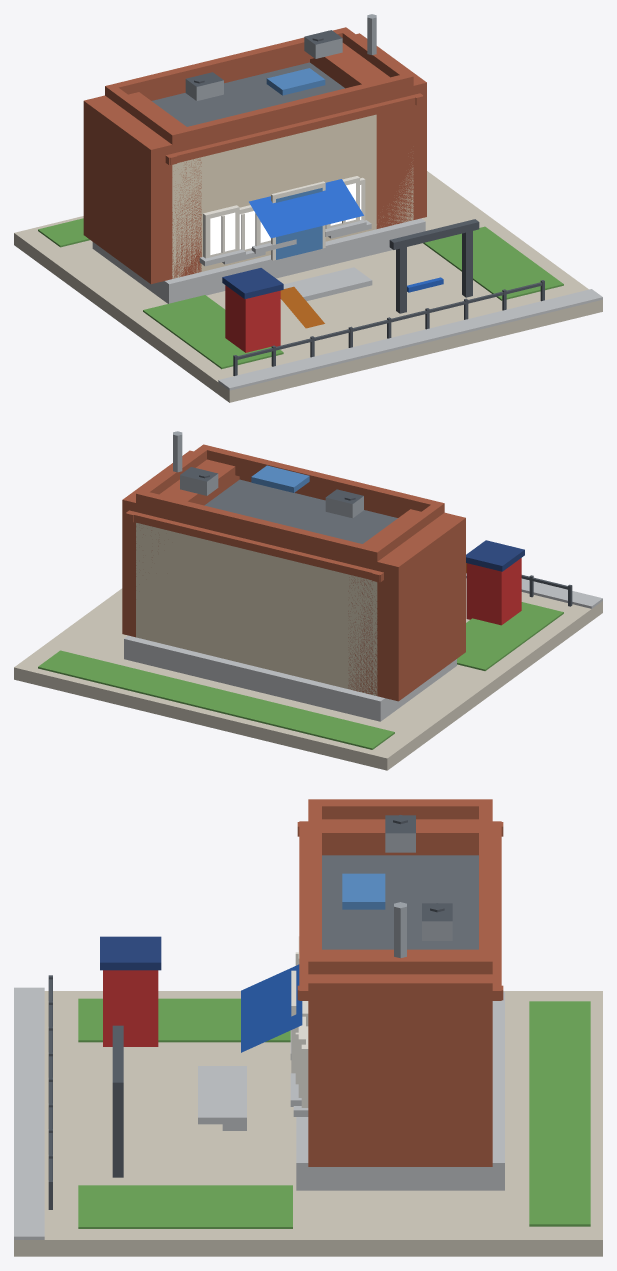
The picture shows the model from 3 angles, top to bottom: view 1: azimuth 30°, elevation 25°; view 2: azimuth 150°, elevation 25°; view 3: azimuth 270°, elevation 25°; orthographic projection. The views are drawn at different scales.
Visible parts, largest first — view 1: b28_v2; view 2: b28_v2; view 3: b28_v2.
Boxes of the visible parts, box(x1,y1,x2,y2) form: b28_v2: box(14, 14, 602, 402); b28_v2: box(14, 431, 602, 770); b28_v2: box(14, 799, 602, 1256).
Bounding box in the file's own units: 0.96 × 0.525 × 0.96.
